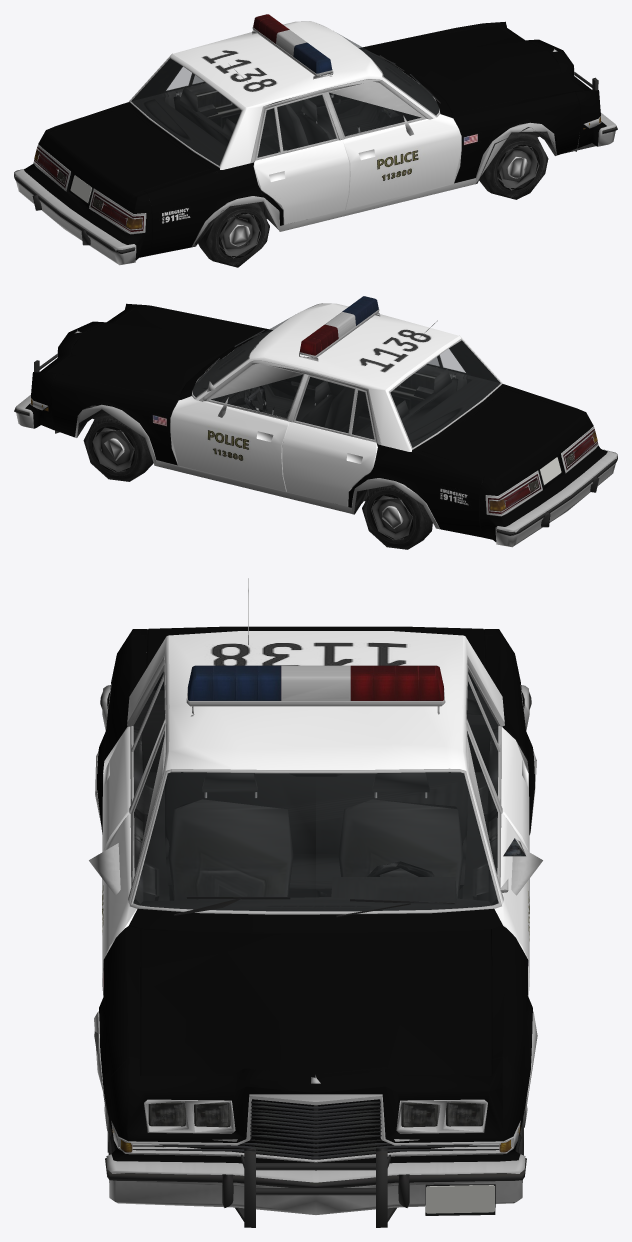
Rendered from PoliceCar_LOD1.obj.
The picture shows the model from 3 angles, top to bottom: view 1: azimuth 30°, elevation 25°; view 2: azimuth 150°, elevation 25°; view 3: azimuth 270°, elevation 25°; orthographic projection. The views are drawn at different scales.
Visible parts, largest first — view 1: Negotiator80cop_Body_Negotiator80cop_body_0, Negotiator80cop_Interior_GEN4DR_INTERIOR_0, Negotiator80cop_Hood_Negotiator80cop_body_0, Negotiator80cop_bottom_UCB_BOTTOM_0, Negotiator80cop_Trunk_door_Negotiator80cop_body_0, Negotiator80cop_Glass_back_UCB_GLASS_CLEAN_0, Negotiator80cop_Bodyglass_UCB_GLASS_CLEAN_0, Negotiator80cop_Wheel_FR_RB1c_Tire_0, Negotiator80cop_Wheel_RR_RB1c_Tire_0, Negotiator80cop_Bumper_Rear_UCB_BOTTOM_0, Negotiator80cop_Lightbar_glass_Riverside88_lights_glass_0, Negotiator80cop_Windshield_UCB_GLASS_CLEAN_0 (+3 smaller); view 2: Negotiator80cop_Body_Negotiator80cop_body_0, Negotiator80cop_Interior_GEN4DR_INTERIOR_0, Negotiator80cop_Hood_Negotiator80cop_body_0, Negotiator80cop_bottom_UCB_BOTTOM_0, Negotiator80cop_Trunk_door_Negotiator80cop_body_0, Negotiator80cop_Glass_back_UCB_GLASS_CLEAN_0, Negotiator80cop_Bodyglass_UCB_GLASS_CLEAN_0, Negotiator80cop_Wheel_FL_RB1c_Tire_0, Negotiator80cop_Wheel_RL_RB1c_Tire_0, Negotiator80cop_Bumper_Rear_UCB_BOTTOM_0, Negotiator80cop_Lightbar_glass_Riverside88_lights_glass_0, Negotiator80cop_Windshield_UCB_GLASS_CLEAN_0 (+3 smaller); view 3: Negotiator80cop_Body_Negotiator80cop_body_0, Negotiator80cop_Interior_GEN4DR_INTERIOR_0, Negotiator80cop_Hood_Negotiator80cop_body_0, Negotiator80cop_Windshield_UCB_GLASS_CLEAN_0, Negotiator80cop_bottom_UCB_BOTTOM_0, Negotiator80cop_Bumper_Front_UCB_BOTTOM_0, Negotiator80cop_Lightbar_glass_Riverside88_lights_glass_0, Negotiator80cop_Bodyglass_UCB_GLASS_CLEAN_0, Negotiator80cop_Lightbar_UCB_BOTTOM_0, Negotiator80cop_Headlights_Riverside88_lights_glass_0, Negotiator80cop_Trunk_door_Negotiator80cop_body_0, Negotiator80cop_Numberplate_front_Negotiator80_Misc_0.
Part boxes in pixels (x1,y1,x2,y2): Negotiator80cop_Body_Negotiator80cop_body_0: [24, 21, 606, 260]; Negotiator80cop_Interior_GEN4DR_INTERIOR_0: [131, 49, 439, 166]; Negotiator80cop_Hood_Negotiator80cop_body_0: [366, 26, 583, 113]; Negotiator80cop_bottom_UCB_BOTTOM_0: [33, 24, 601, 257]; Negotiator80cop_Trunk_door_Negotiator80cop_body_0: [43, 107, 209, 209]; Negotiator80cop_Glass_back_UCB_GLASS_CLEAN_0: [131, 58, 240, 165]; Negotiator80cop_Bodyglass_UCB_GLASS_CLEAN_0: [193, 75, 420, 157]; Negotiator80cop_Wheel_FR_RB1c_Tire_0: [479, 132, 548, 199]; Negotiator80cop_Wheel_RR_RB1c_Tire_0: [198, 203, 269, 267]; Negotiator80cop_Bumper_Rear_UCB_BOTTOM_0: [14, 168, 136, 265]; Negotiator80cop_Lightbar_glass_Riverside88_lights_glass_0: [253, 14, 332, 73]; Negotiator80cop_Windshield_UCB_GLASS_CLEAN_0: [339, 34, 438, 114]; Negotiator80cop_Body_Negotiator80cop_body_0: [25, 303, 607, 541]; Negotiator80cop_Interior_GEN4DR_INTERIOR_0: [192, 331, 500, 447]; Negotiator80cop_Hood_Negotiator80cop_body_0: [48, 308, 265, 395]; Negotiator80cop_bottom_UCB_BOTTOM_0: [30, 303, 598, 529]; Negotiator80cop_Trunk_door_Negotiator80cop_body_0: [422, 389, 588, 491]; Negotiator80cop_Glass_back_UCB_GLASS_CLEAN_0: [391, 340, 500, 447]; Negotiator80cop_Bodyglass_UCB_GLASS_CLEAN_0: [211, 357, 438, 439]; Negotiator80cop_Wheel_FL_RB1c_Tire_0: [83, 411, 153, 481]; Negotiator80cop_Wheel_RL_RB1c_Tire_0: [362, 485, 432, 549]; Negotiator80cop_Bumper_Rear_UCB_BOTTOM_0: [495, 449, 617, 547]; Negotiator80cop_Lightbar_glass_Riverside88_lights_glass_0: [299, 296, 378, 355]; Negotiator80cop_Windshield_UCB_GLASS_CLEAN_0: [193, 316, 292, 396]; Negotiator80cop_Body_Negotiator80cop_body_0: [97, 629, 534, 1170]; Negotiator80cop_Interior_GEN4DR_INTERIOR_0: [133, 690, 498, 914]; Negotiator80cop_Hood_Negotiator80cop_body_0: [140, 929, 491, 1075]; Negotiator80cop_Windshield_UCB_GLASS_CLEAN_0: [133, 772, 498, 910]; Negotiator80cop_bottom_UCB_BOTTOM_0: [89, 578, 542, 1162]; Negotiator80cop_Bumper_Front_UCB_BOTTOM_0: [105, 1148, 526, 1227]; Negotiator80cop_Lightbar_glass_Riverside88_lights_glass_0: [188, 665, 443, 700]; Negotiator80cop_Bodyglass_UCB_GLASS_CLEAN_0: [133, 672, 498, 872]; Negotiator80cop_Lightbar_UCB_BOTTOM_0: [186, 665, 445, 716]; Negotiator80cop_Headlights_Riverside88_lights_glass_0: [148, 1102, 483, 1127]; Negotiator80cop_Trunk_door_Negotiator80cop_body_0: [146, 626, 485, 689]; Negotiator80cop_Numberplate_front_Negotiator80_Misc_0: [425, 1185, 494, 1213].
Bounding box in the file's own units: 4.98 × 1.59 × 1.88.
7 materials, 5 textured.
